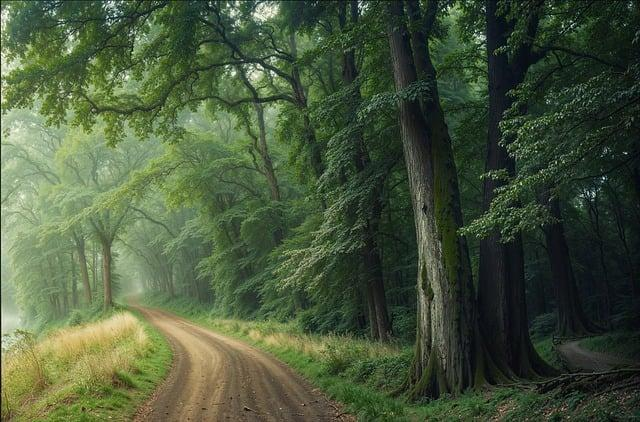Non_Gorille: (48, 31, 482, 410)
